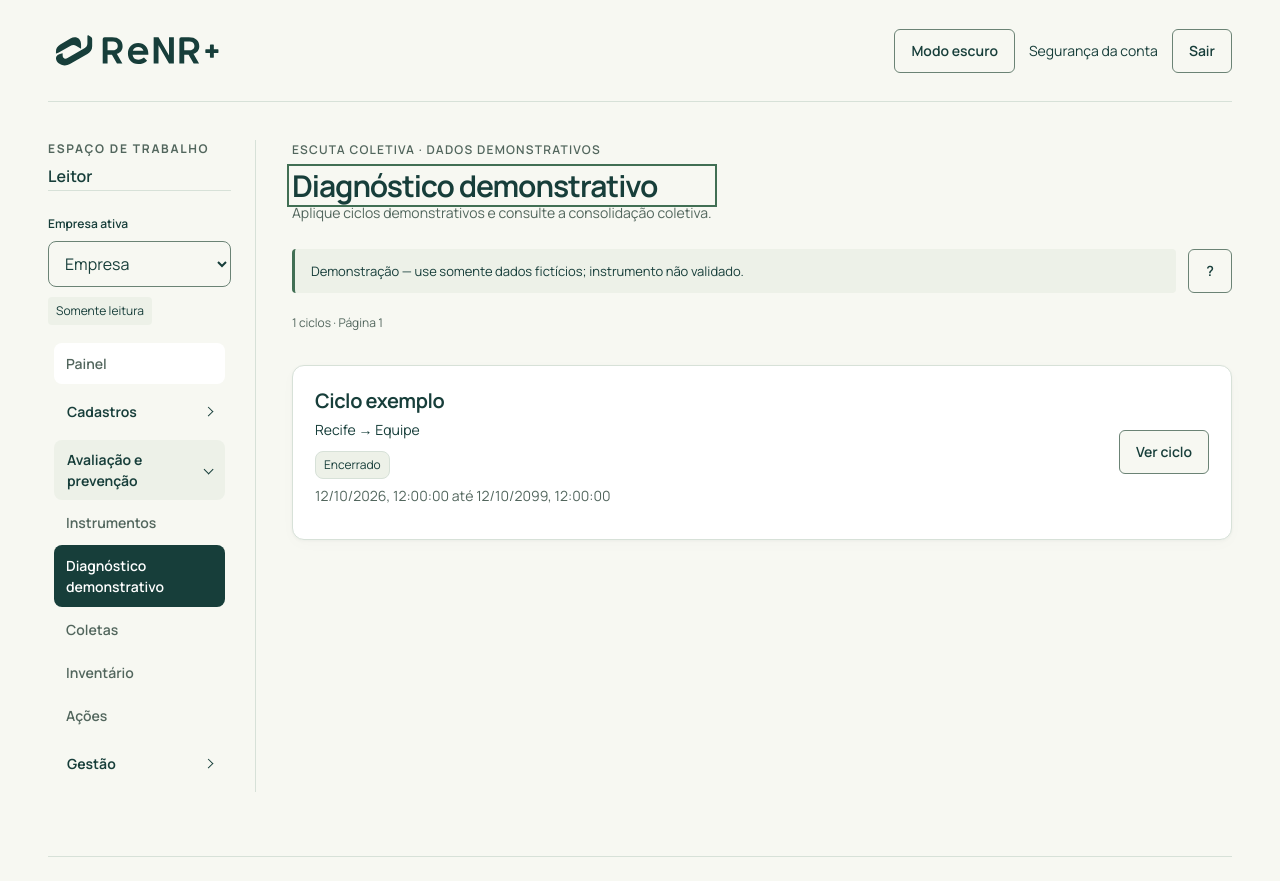
it: perfil leitor consulta ciclo e agregados sem controles administrativos
This screenshot has width=1280, height=881.
Expected: the heading "Diagnóstico demonstrativo" is shown, x1=292 y1=169 x2=712 y2=202
Click the button with aria-label "Ver ciclo Ciclo exemplo": (1164, 452) x1=1119 y1=430 x2=1209 y2=474
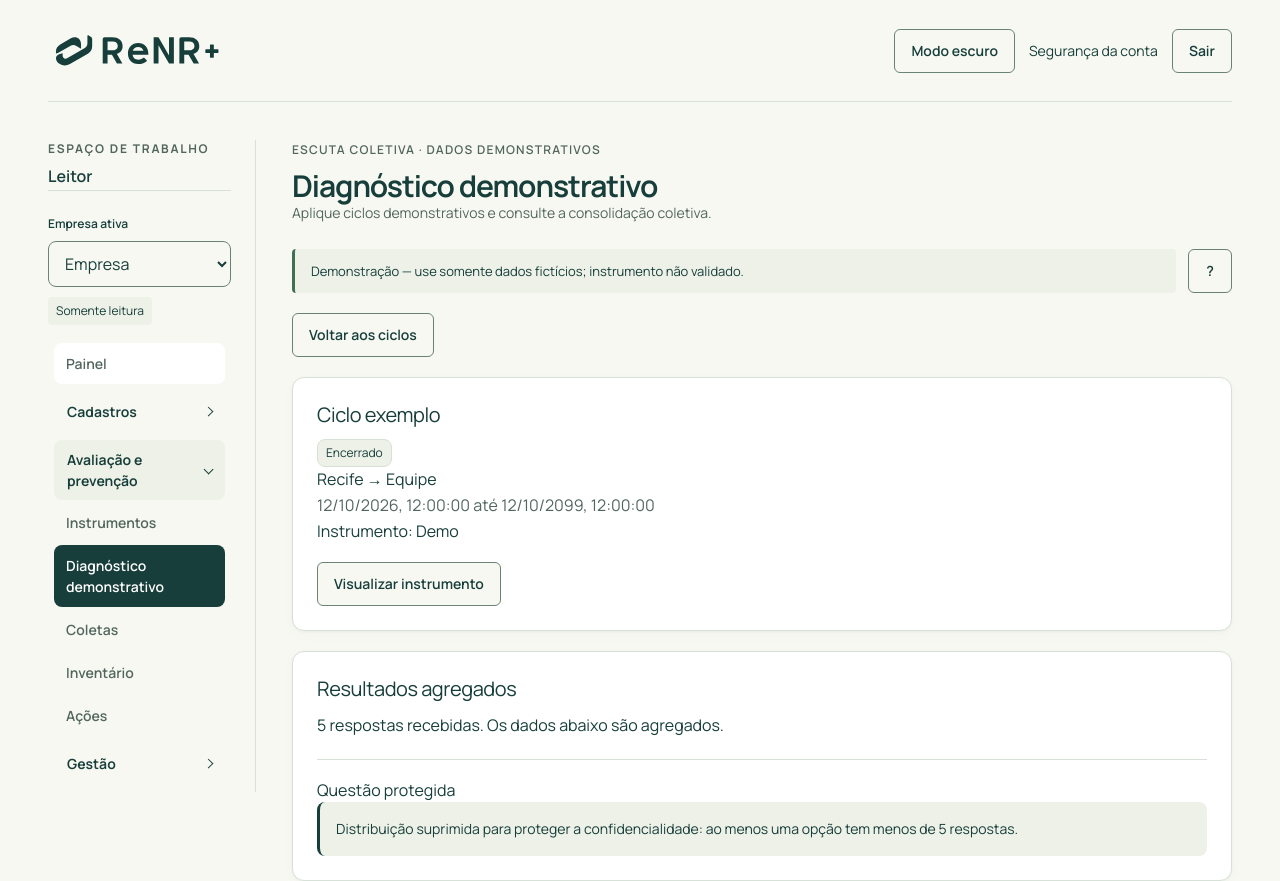
Now the text "Distribuição suprimida" is shown, box x1=336 y1=819 x2=939 y2=838
